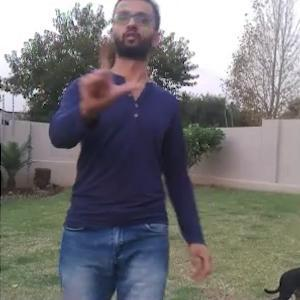land_hand: (71, 38, 142, 110)
